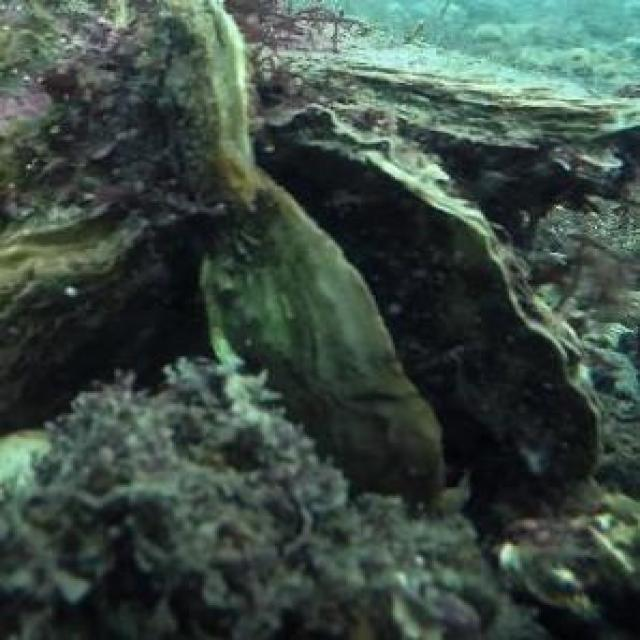Oyster-Open: (0, 214, 199, 455)
